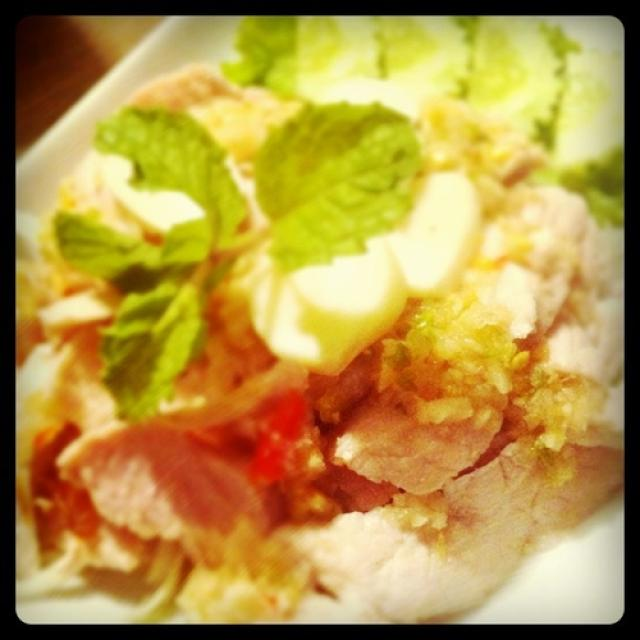猪肉菜式: (15, 28, 617, 621)
